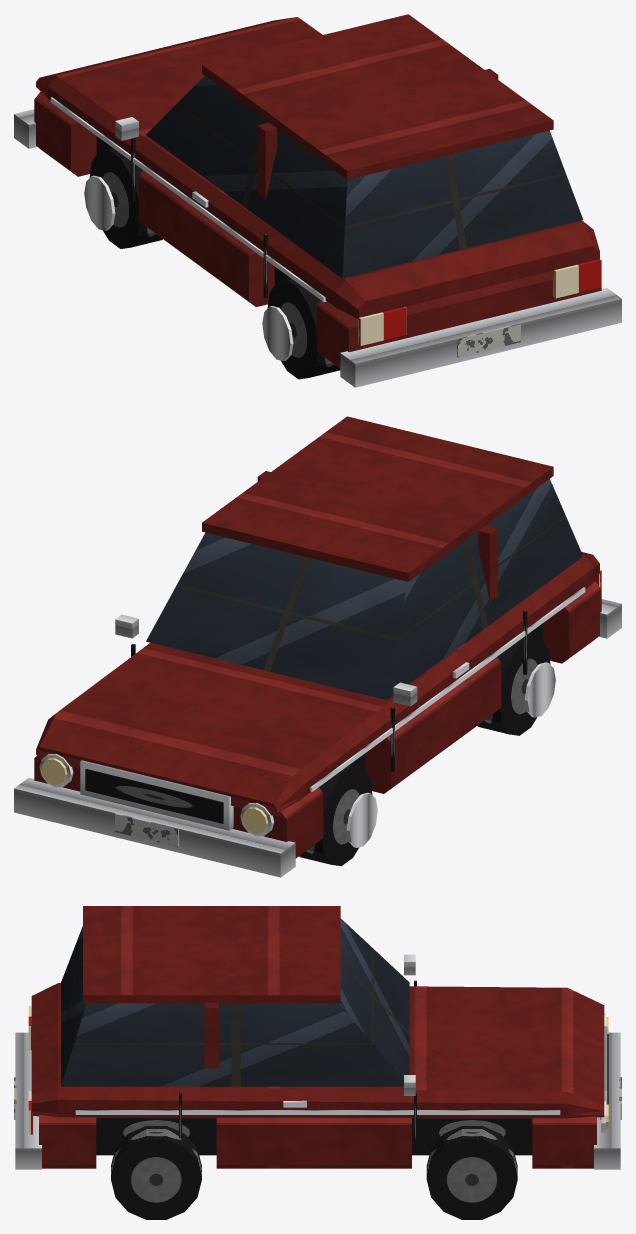
Rendered from Car_HatchRed.fbx.
The picture shows the model from 3 angles, top to bottom: view 1: azimuth 30°, elevation 25°; view 2: azimuth 150°, elevation 25°; view 3: azimuth 270°, elevation 25°; orthographic projection. The views are drawn at different scales.
Visible parts, largest first — view 1: Car_HatchRed; view 2: Car_HatchRed; view 3: Car_HatchRed.
Part boxes in pixels (x1,y1,x2,y2): Car_HatchRed: [14, 14, 621, 387]; Car_HatchRed: [14, 416, 621, 877]; Car_HatchRed: [14, 906, 621, 1219].
Size of the model in its own units: 2.06 by 1.54 by 4.14.
